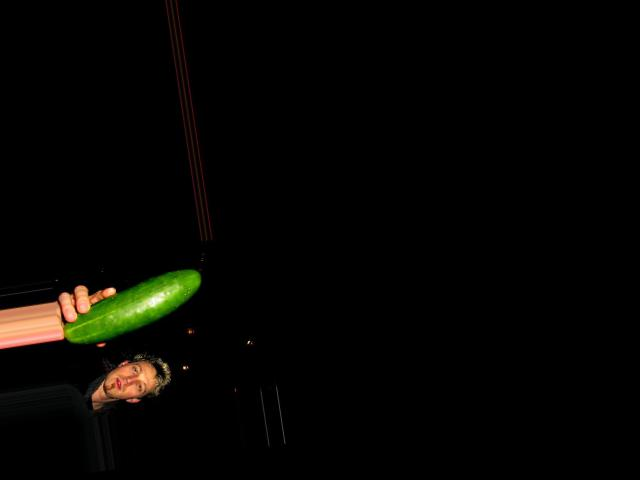cucumber: (58, 266, 207, 345)
